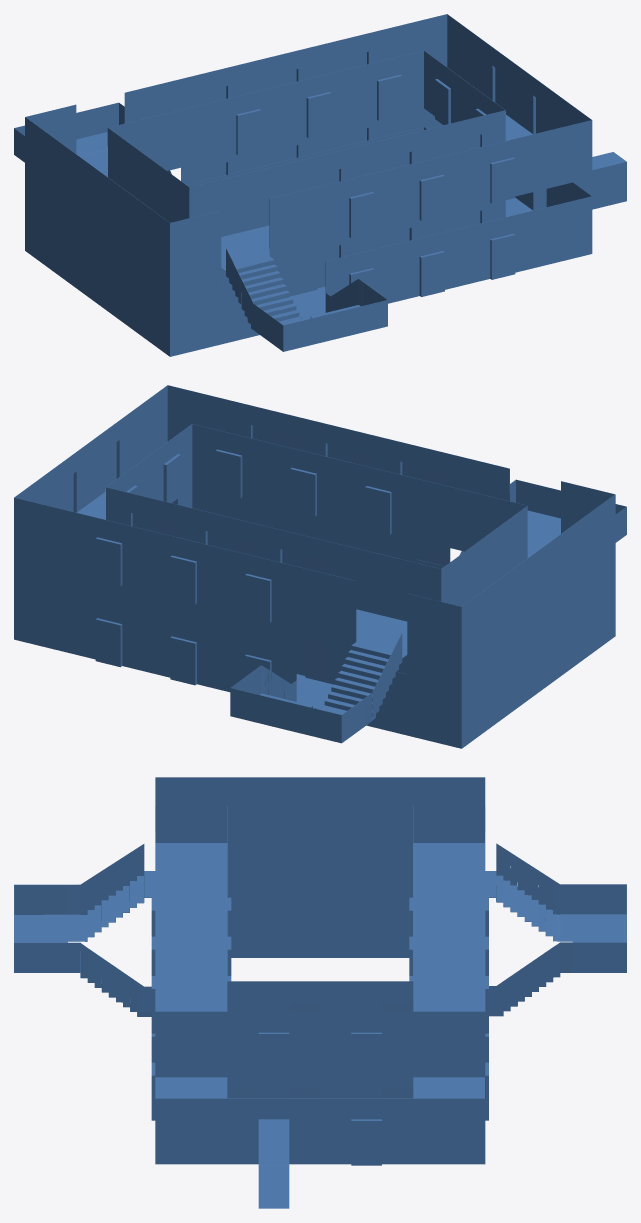
File: building3.glb
3 views of the same model, one above another, from view 1: azimuth 30°, elevation 25°; view 2: azimuth 150°, elevation 25°; view 3: azimuth 270°, elevation 25° (orthographic). The views are drawn at different scales.
Parts seen in each view (by area): view 1: sidestairs; view 2: sidestairs; view 3: sidestairs.
Part boxes in pixels (x1=…): sidestairs: x1=14, y1=14, x2=626, y2=356; sidestairs: x1=14, y1=385, x2=626, y2=748; sidestairs: x1=14, y1=777, x2=626, y2=1208.
Size of the model in its own units: 1824 by 467 by 1693.
